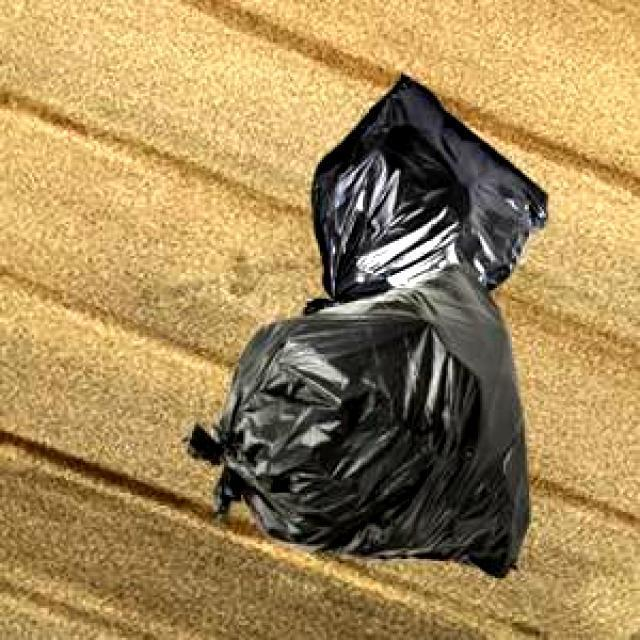Bolsa-de-nilon: (188, 75, 549, 580)
